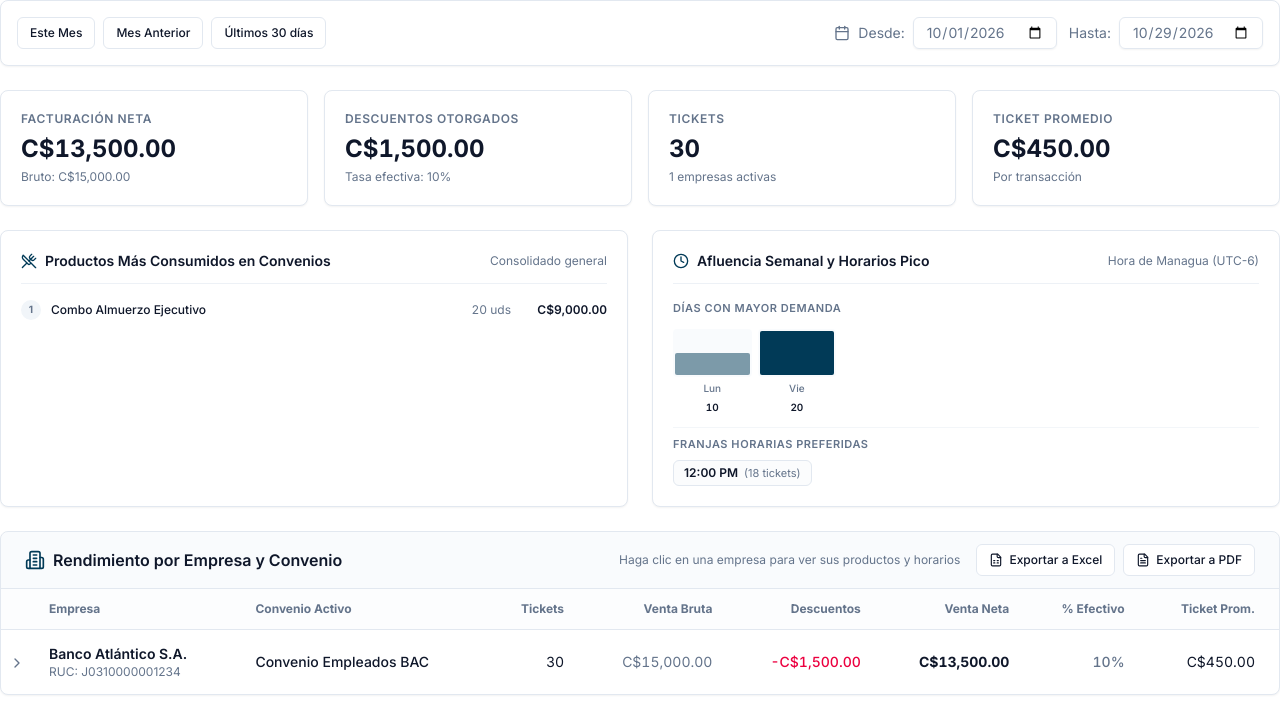
Test: CorporateMetricsTab (Backoffice Standard) › renders KPI cards and corporate ranking table with accurate data and badges
Expected: the text "Facturación Neta" is shown, x1=21 y1=111 x2=152 y2=126
Expected: the text "Descuentos Otorgados" is shown, x1=345 y1=111 x2=519 y2=126
Verify row expansion
What coordinates should you click on to do the following:
click the text "Banco Atlántico S.A."
I would click on:
 (118, 654)
Its box is x1=49 y1=645 x2=187 y2=662.
(page scrolled)
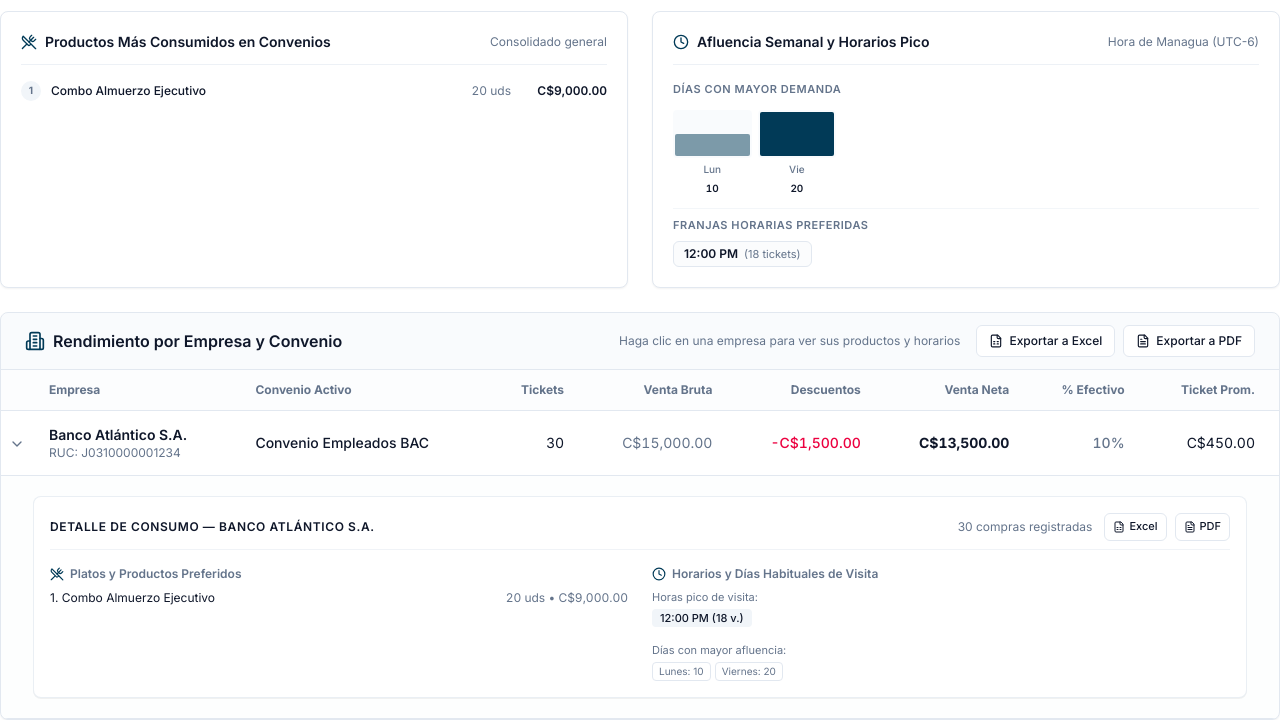
Now the text "Detalle de Consumo — Banco Atlántico S.A." is shown, box x1=50 y1=519 x2=375 y2=535
Now the text "Platos y Productos Preferidos" is shown, box x1=50 y1=566 x2=242 y2=581
Now the text "Horarios y Días Habituales de Visita" is shown, box x1=652 y1=566 x2=878 y2=581
